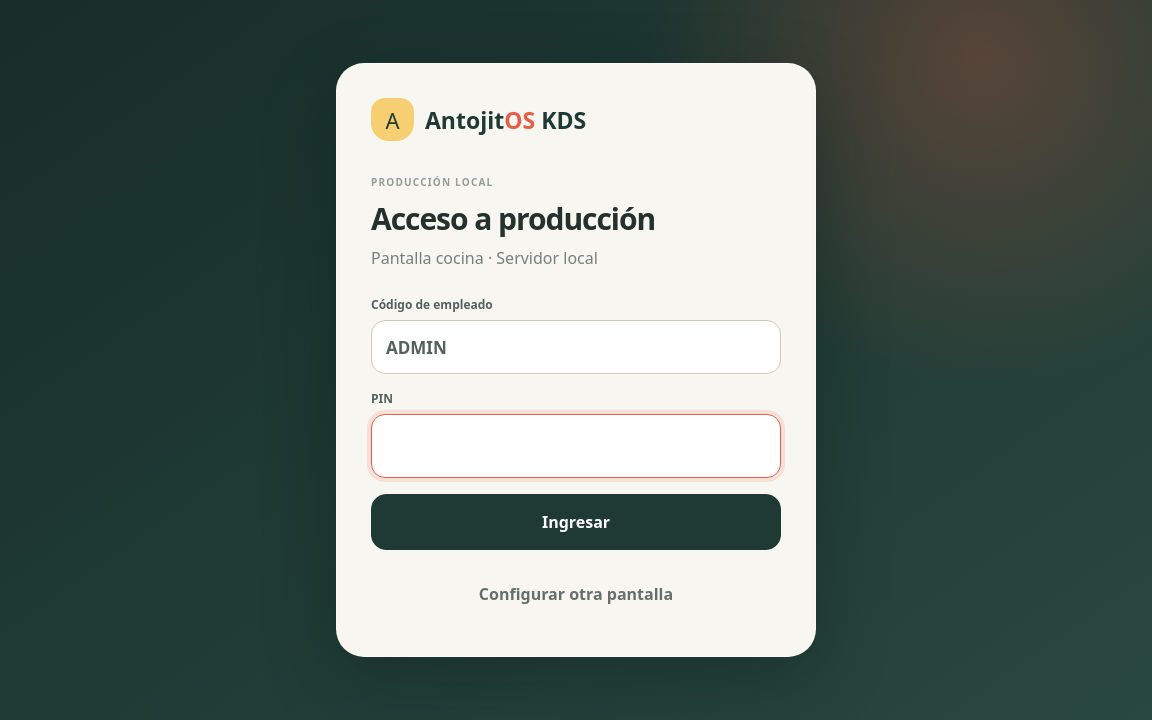
Test: pantalla KDS › muestra una comanda y avanza su estado con un toque
Type "1234" into the password field labelled "PIN" at (576, 446), box [371,414,781,478]
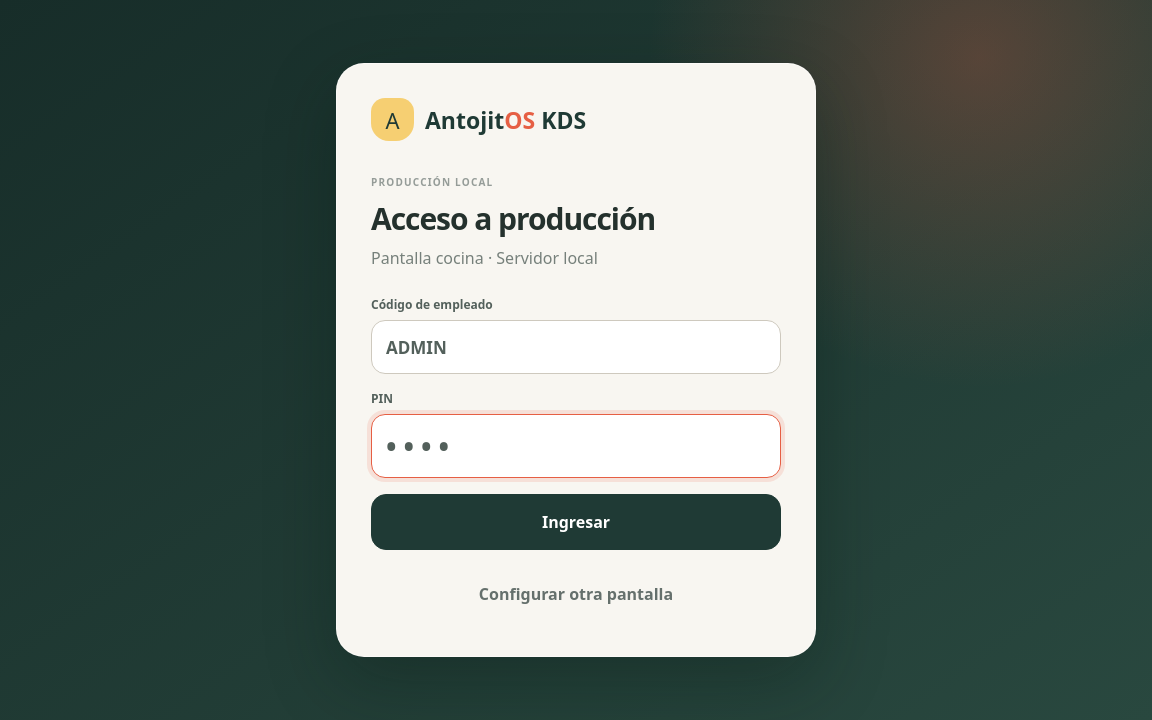
Click the button "Ingresar" at (576, 522), box [371,494,781,550]
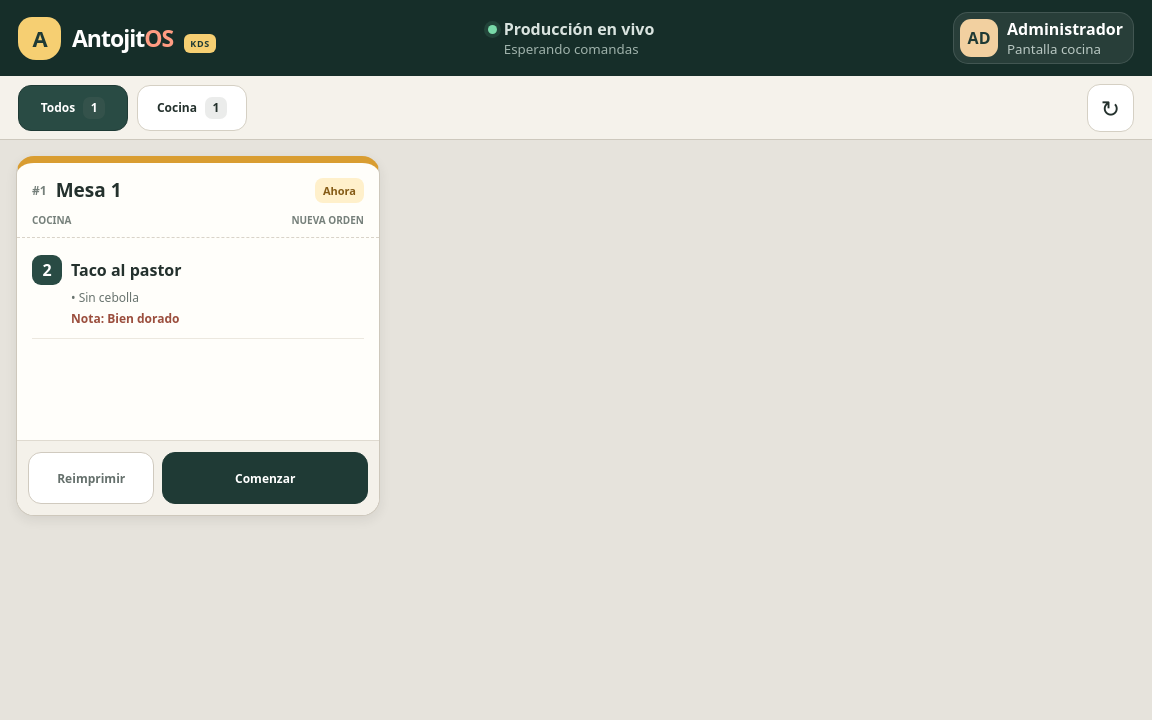
Check: the text "Taco al pastor" is shown, box [71,259,182,281]
Check: the text "• Sin cebolla" is shown, box [71,289,139,306]
Check: the text "Nota: Bien dorado" is shown, box [71,310,180,327]
Click the button "Comenzar" at (265, 478), box [162,452,368,504]
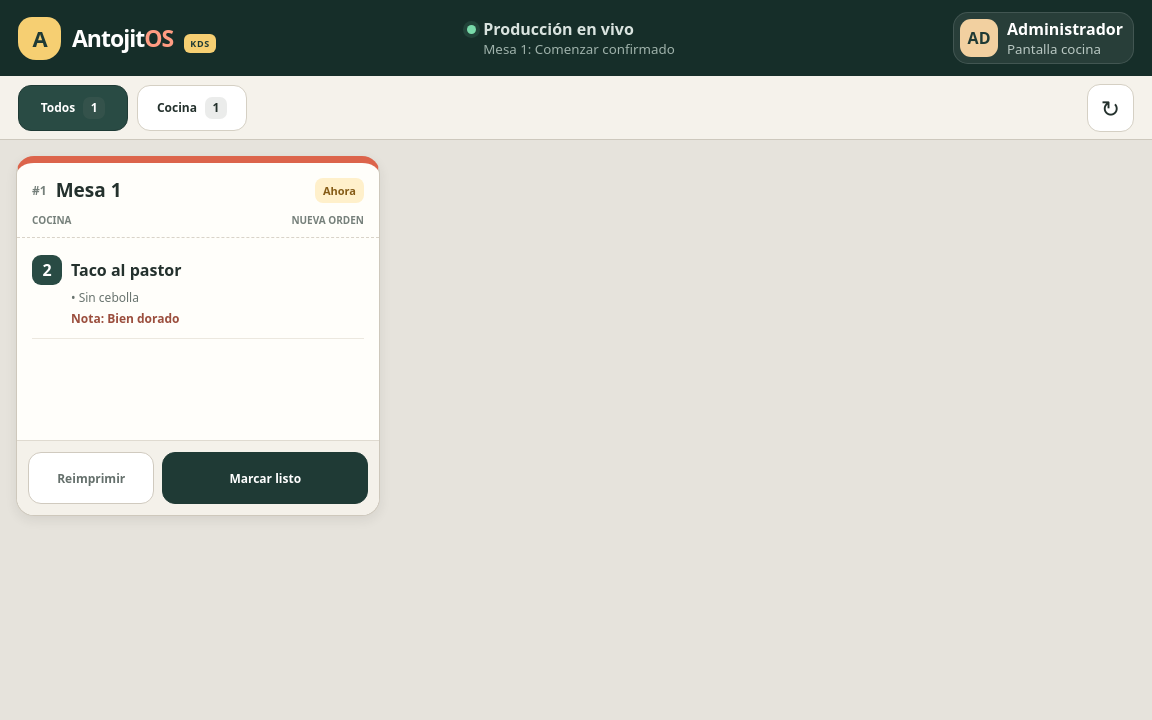
Check: the button "Marcar listo" is shown, box [162,452,368,504]
